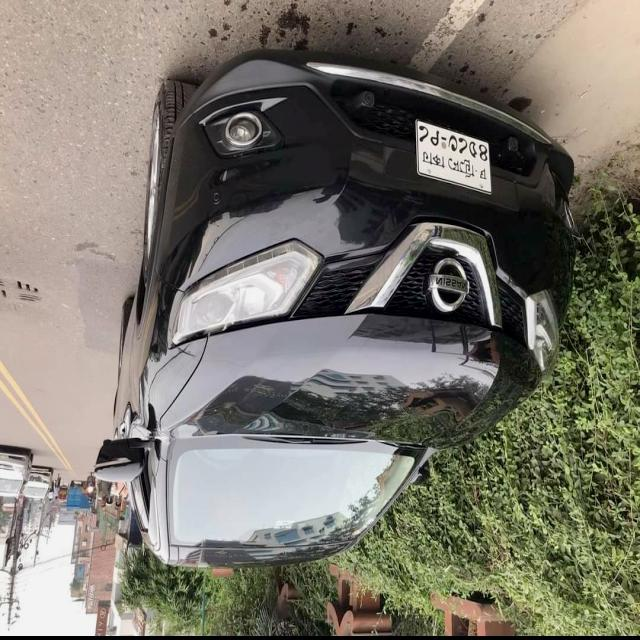black: (112, 38, 592, 565)
